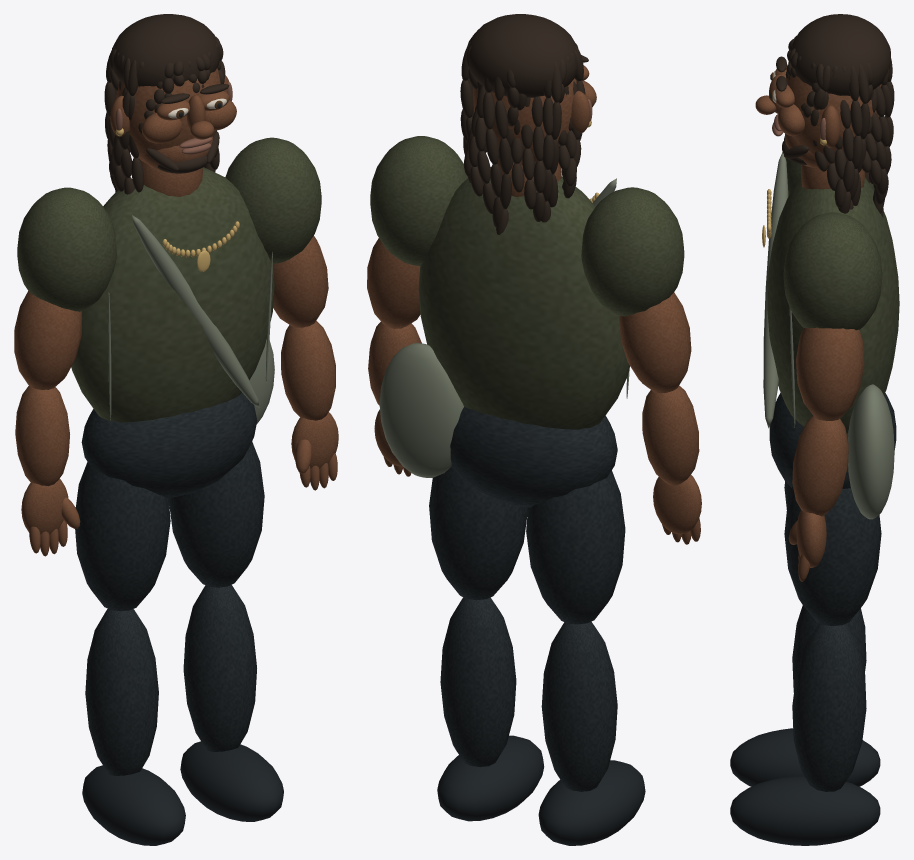
Rendered from ronniebaby.glb.
3 views of the same model, side by side, from view 1: azimuth 30°, elevation 25°; view 2: azimuth 150°, elevation 25°; view 3: azimuth 270°, elevation 25° (orthographic). The views are drawn at different scales.
Visible parts, largest first — view 1: Olive shirt / woven texture, Dark denim trousers, Warm skin with embedded albedo, Pupil / boots, Dark brown modeled locs, Canvas strap, Brushed brass jewelry, Lip tone; view 2: Olive shirt / woven texture, Dark denim trousers, Warm skin with embedded albedo, Dark brown modeled locs, Pupil / boots, Canvas strap; view 3: Dark denim trousers, Olive shirt / woven texture, Warm skin with embedded albedo, Dark brown modeled locs, Pupil / boots, Canvas strap, Brushed brass jewelry.
Part boxes in pixels (x1=…): Olive shirt / woven texture: x1=17, y1=137, x2=321, y2=422; Dark denim trousers: x1=75, y1=392, x2=264, y2=775; Warm skin with embedded albedo: x1=14, y1=68, x2=338, y2=556; Pupil / boots: x1=82, y1=103, x2=283, y2=845; Dark brown modeled locs: x1=104, y1=14, x2=229, y2=194; Canvas strap: x1=108, y1=215, x2=274, y2=424; Brushed brass jewelry: x1=115, y1=128, x2=239, y2=271; Lip tone: x1=115, y1=82, x2=232, y2=154; Olive shirt / woven texture: x1=370, y1=136, x2=684, y2=429; Dark denim trousers: x1=429, y1=406, x2=625, y2=791; Warm skin with embedded albedo: x1=367, y1=65, x2=701, y2=544; Dark brown modeled locs: x1=460, y1=14, x2=588, y2=234; Pupil / boots: x1=437, y1=735, x2=645, y2=845; Canvas strap: x1=379, y1=178, x2=629, y2=477; Dark denim trousers: x1=769, y1=393, x2=896, y2=791; Olive shirt / woven texture: x1=767, y1=158, x2=899, y2=433; Warm skin with embedded albedo: x1=755, y1=65, x2=881, y2=581; Dark brown modeled locs: x1=776, y1=14, x2=894, y2=217; Pupil / boots: x1=730, y1=74, x2=880, y2=845; Canvas strap: x1=763, y1=152, x2=894, y2=519; Brushed brass jewelry: x1=762, y1=138, x2=826, y2=247.
Size of the model in its own units: 0.77 by 1.85 by 0.3556.
Materials: 10 (3 with a texture image).
